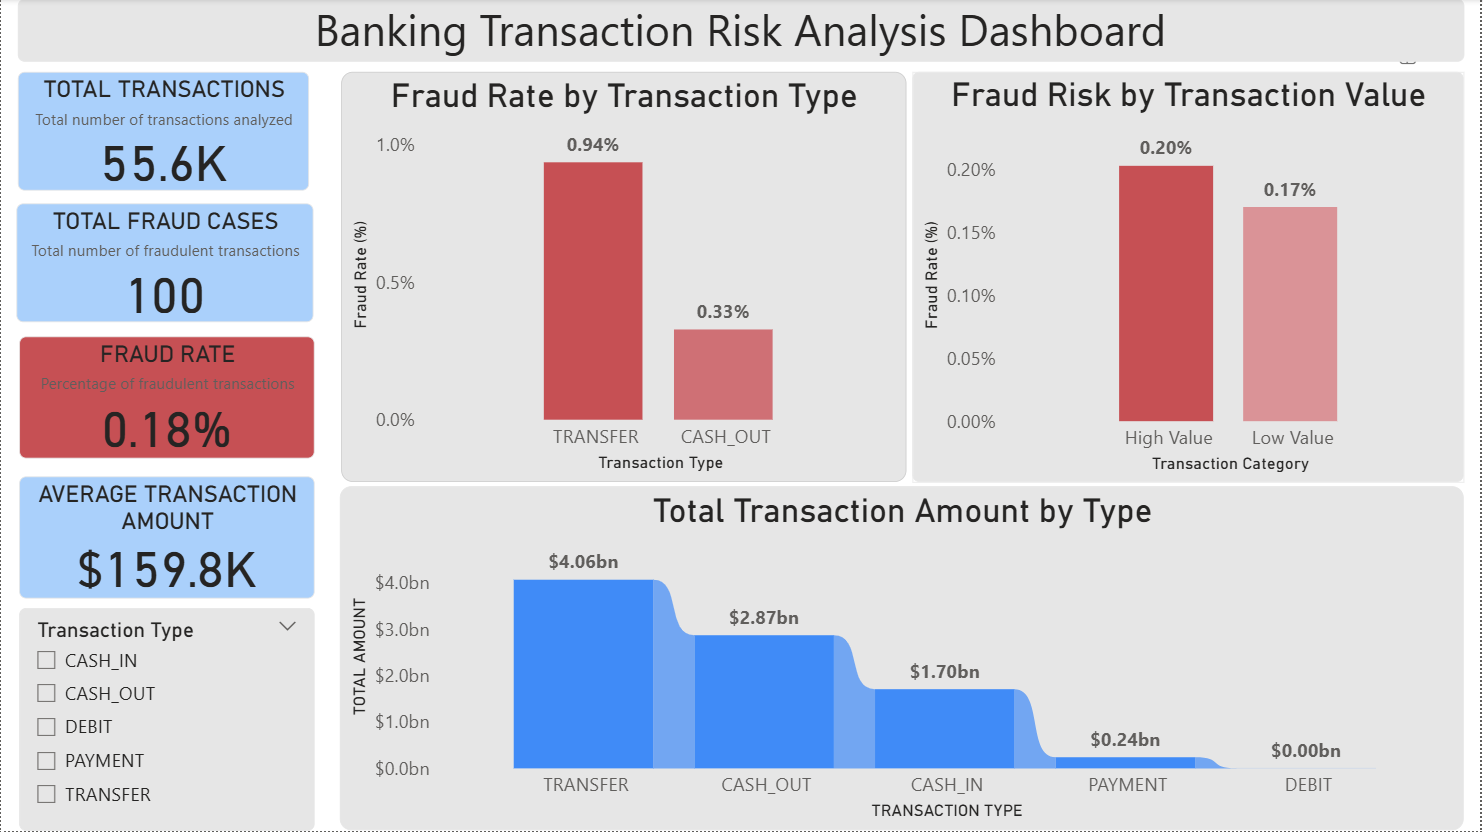

The page's visual inventory and layout, read from the dashboard file:
{"tool":"powerbi","page":{"name":"Dashboard","canvas":[1280,720],"ordinal":4},"visuals":[{"type":"clusteredColumnChart","title":"Fraud Risk by Transaction Value","fields":{"Category":["subset_50k+.value_category"],"Y":["subset_50k+.fraud_rate"]},"box":[788.9,63,477,355],"z":0},{"type":"clusteredColumnChart","title":"Fraud Rate by Transaction Type","fields":{"Category":["subset_50k+.type"],"Y":["subset_50k+.fraud_rate"]},"box":[294.5,63,489,355],"z":1},{"type":"columnChart","title":"Total Transaction Amount by Type ","fields":{"Y":["Sum(subset_50k+.amount)"],"Category":["subset_50k+.type"]},"box":[293.3,421.7,973.1,298.1],"z":2},{"type":"card","title":"TOTAL TRANSACTIONS","fields":{"Values":["subset_50k+.total_transactions"]},"box":[14.5,63,252.1,103],"z":3},{"type":"card","title":"TOTAL FRAUD CASES","fields":{"Values":["subset_50k+.total_fraud"]},"box":[13.3,176.9,256.9,103],"z":4},{"type":"card","title":"FRAUD RATE","fields":{"Values":["subset_50k+.fraud_rate"]},"box":[15.8,292.1,255.7,105.4],"z":5},{"type":"card","title":"AVERAGE TRANSACTION AMOUNT","fields":{"Values":["subset_50k+.avg_amount"]},"box":[15.8,413.2,255.7,105.4],"z":6},{"type":"textbox","box":[14.5,0,1251.8,54.5],"z":7},{"type":"slicer","fields":{"Values":["subset_50k+.type"]},"box":[15.8,527.1,255.7,192.7],"z":8}]}

Visuals, with their boxes in screenshot pixels (x1, y1, x2, y2), scaled from the page's 1280x720 canvas onto the 1483x832 screenshot:
"Fraud Risk by Transaction Value" clusteredColumnChart: select_region(914, 73, 1467, 483)
"Fraud Rate by Transaction Type" clusteredColumnChart: select_region(341, 73, 908, 483)
"Total Transaction Amount by Type " columnChart: select_region(340, 487, 1467, 831)
"TOTAL TRANSACTIONS" card: select_region(17, 73, 309, 192)
"TOTAL FRAUD CASES" card: select_region(15, 204, 313, 323)
"FRAUD RATE" card: select_region(18, 338, 315, 459)
"AVERAGE TRANSACTION AMOUNT" card: select_region(18, 477, 315, 599)
textbox: select_region(17, 0, 1467, 63)
slicer - subset_50k+.type: select_region(18, 609, 315, 831)
